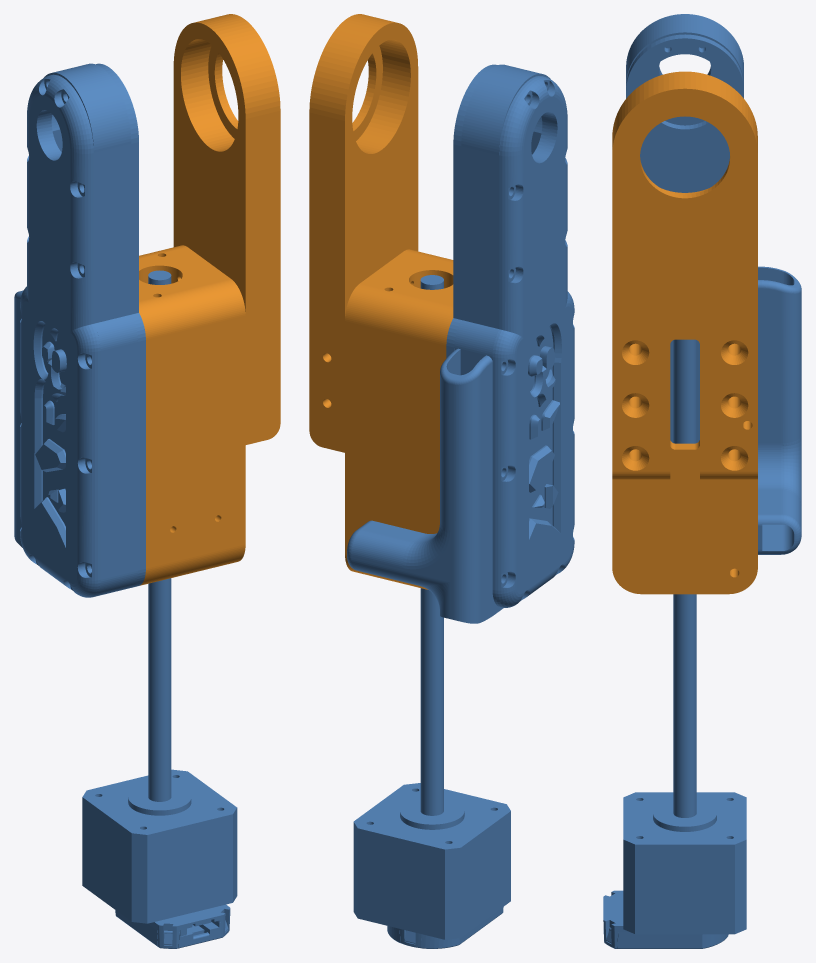
3 renders of one model, left to right at view 1: azimuth 30°, elevation 25°; view 2: azimuth 150°, elevation 25°; view 3: azimuth 270°, elevation 25°, orthographic.
Visible parts, largest first — view 1: J5 side cover cap, J5 Housing, J6 main bearing arm, Motor 17LS13-0404E-200H-C1, J5 side cover spacer, J5 side, Encoder AMT-102V (×2); view 2: J5 side cover cap, J6 main bearing arm, J5 side cover spacer, J5 Housing, Motor 17LS13-0404E-200H-C1, J5 side, Encoder AMT-102V; view 3: J6 main bearing arm, Motor 17LS13-0404E-200H-C1, J5 Housing, J5 side cover spacer, J5 side, Encoder AMT-102V (×2), J5 side cover cap.
Boxes of the visible parts, <box> form: J5 side cover cap: <box>20,74,100,597</box>; J5 Housing: <box>139,245,245,585</box>; J6 main bearing arm: <box>173,14,280,444</box>; Motor 17LS13-0404E-200H-C1: <box>82,270,237,923</box>; J5 side cover spacer: <box>14,63,137,596</box>; J5 side: <box>96,63,145,587</box>; Encoder AMT-102V (×2): <box>115,904,230,948</box>; J5 side cover cap: <box>492,76,574,607</box>; J6 main bearing arm: <box>309,14,418,452</box>; J5 side cover spacer: <box>347,64,550,623</box>; J5 Housing: <box>345,249,453,589</box>; Motor 17LS13-0404E-200H-C1: <box>353,275,510,939</box>; J5 side: <box>446,64,497,357</box>; Encoder AMT-102V: <box>387,908,502,948</box>; J6 main bearing arm: <box>612,71,757,479</box>; Motor 17LS13-0404E-200H-C1: <box>623,339,746,934</box>; J5 Housing: <box>612,440,757,594</box>; J5 side cover spacer: <box>626,14,801,554</box>; J5 side: <box>626,34,743,192</box>; Encoder AMT-102V (×2): <box>603,890,728,948</box>; J5 side cover cap: <box>645,45,724,442</box>.
Bounding box in the file's own units: 0.0782 × 0.068 × 0.3354.
